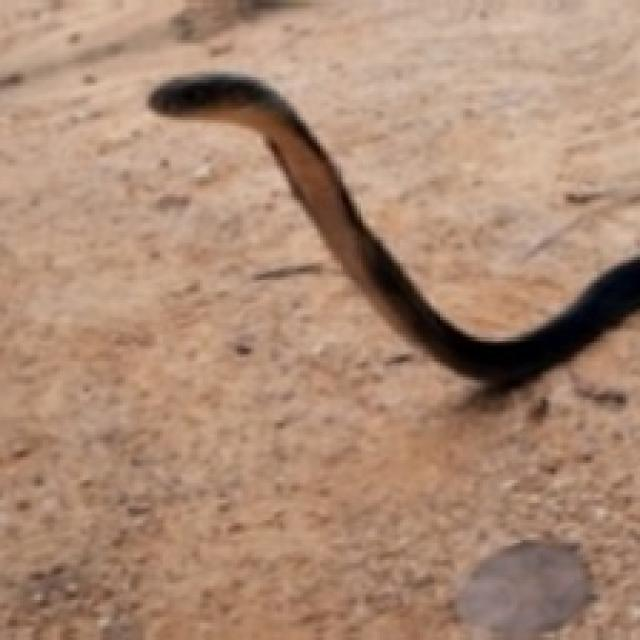king cobra: (149, 74, 637, 386)
